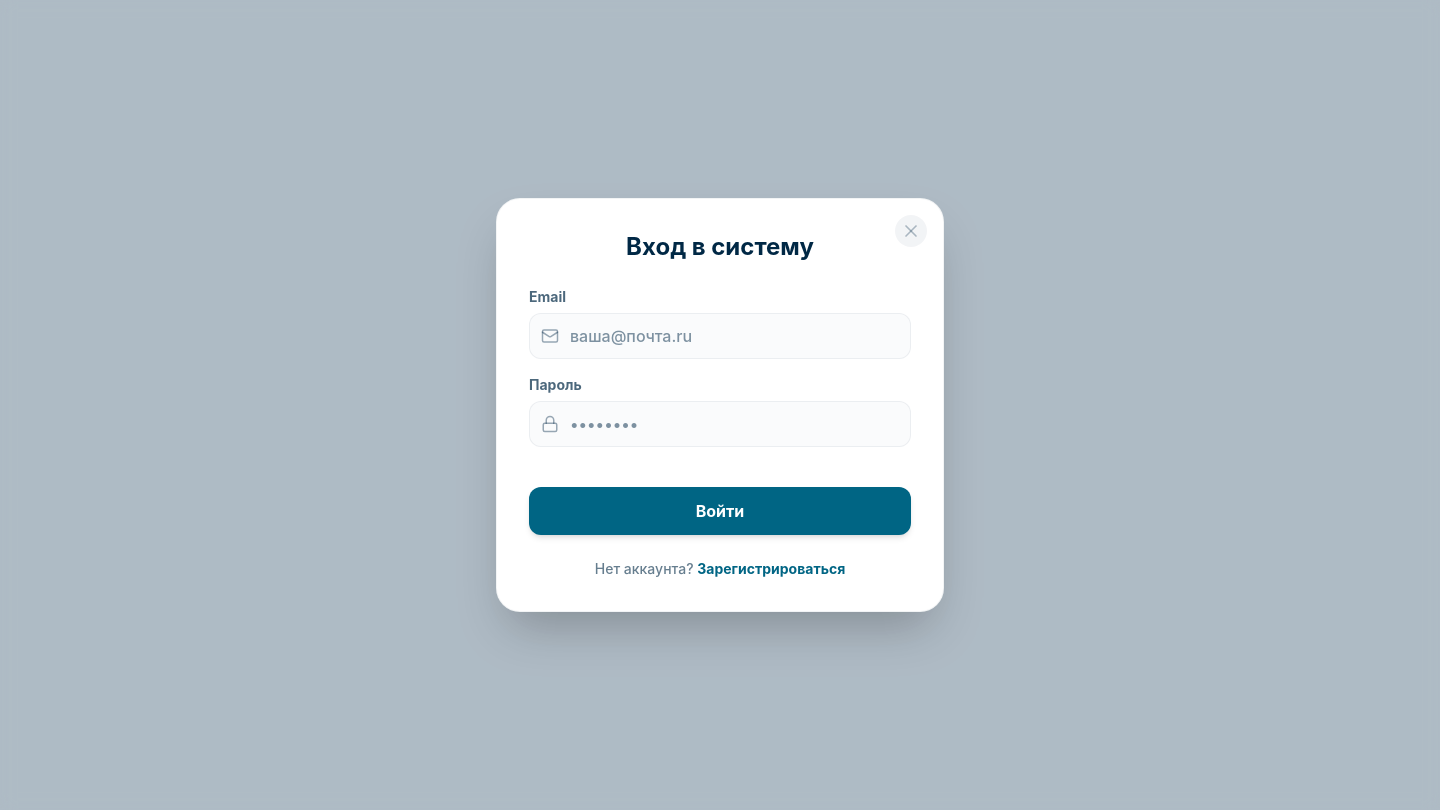
Test: AuthModal Registration Stress Tests › Test 8: Server returns unknown error — generic message shown
Click the button "Зарегистрироваться" at (771, 569), box left=697, top=559, right=845, bottom=579
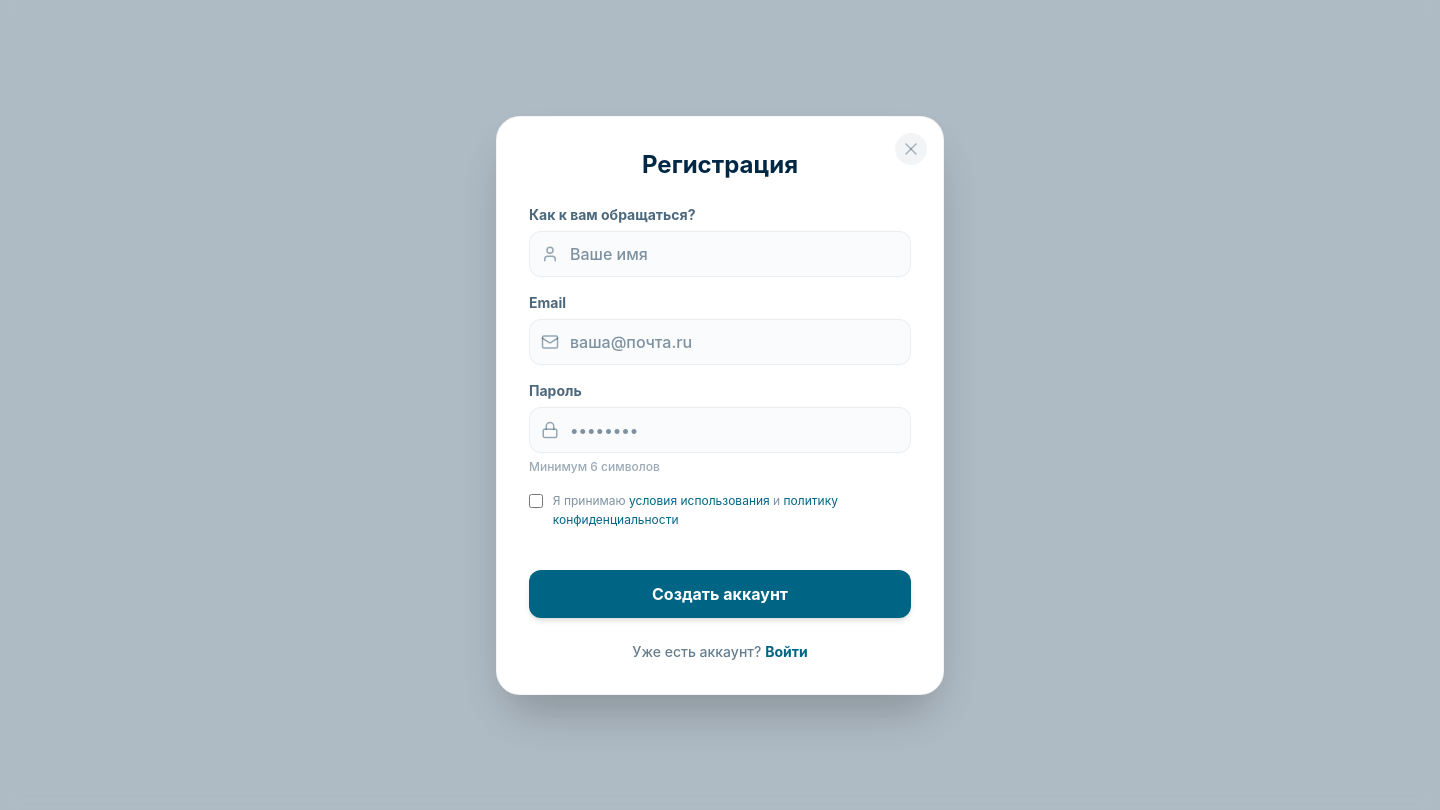
Type "Тест" into the field with placeholder "Ваше имя" at (720, 254), box left=529, top=230, right=911, bottom=276
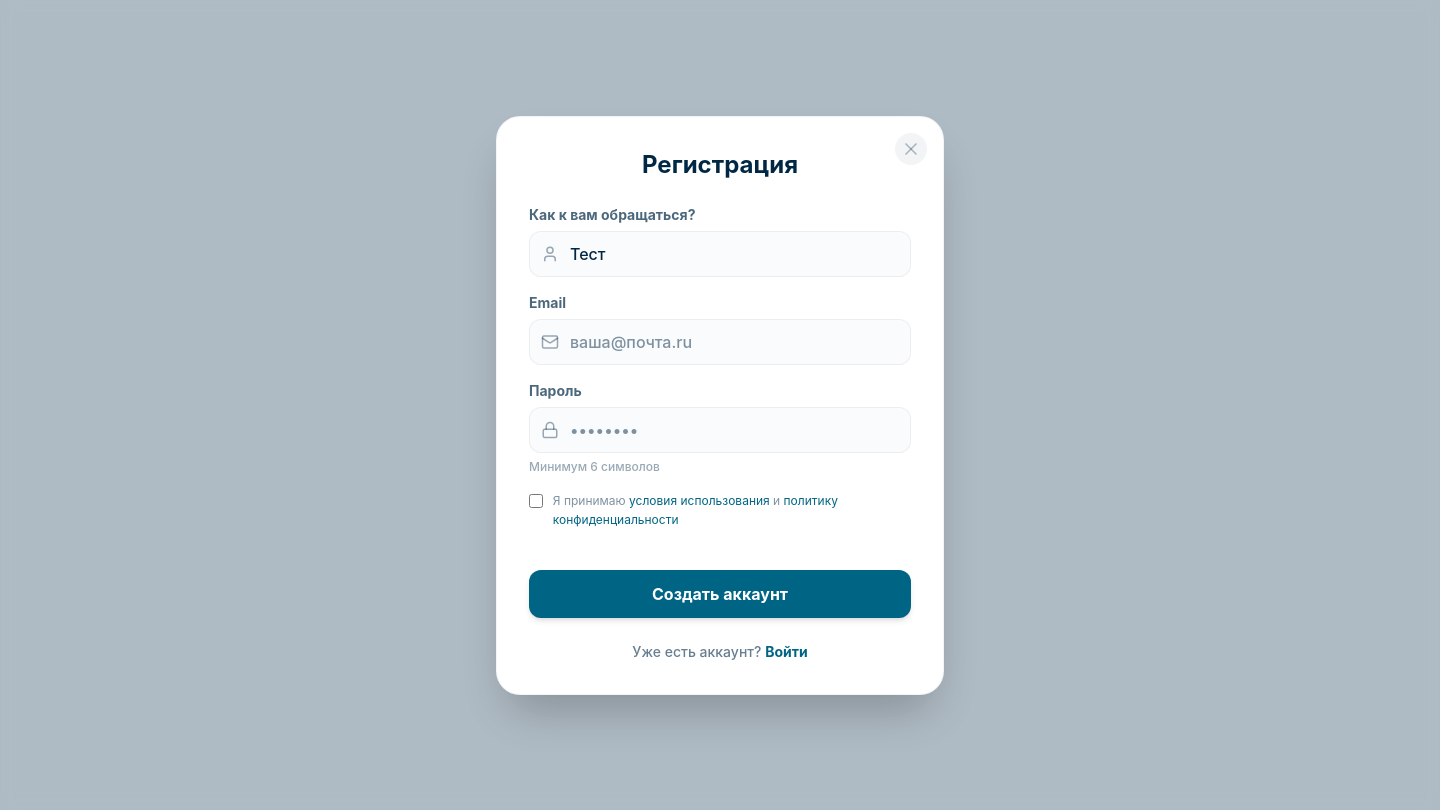
Type "test@test.com" into the field with placeholder "ваша@почта.ru" at (720, 342), box left=529, top=318, right=911, bottom=364
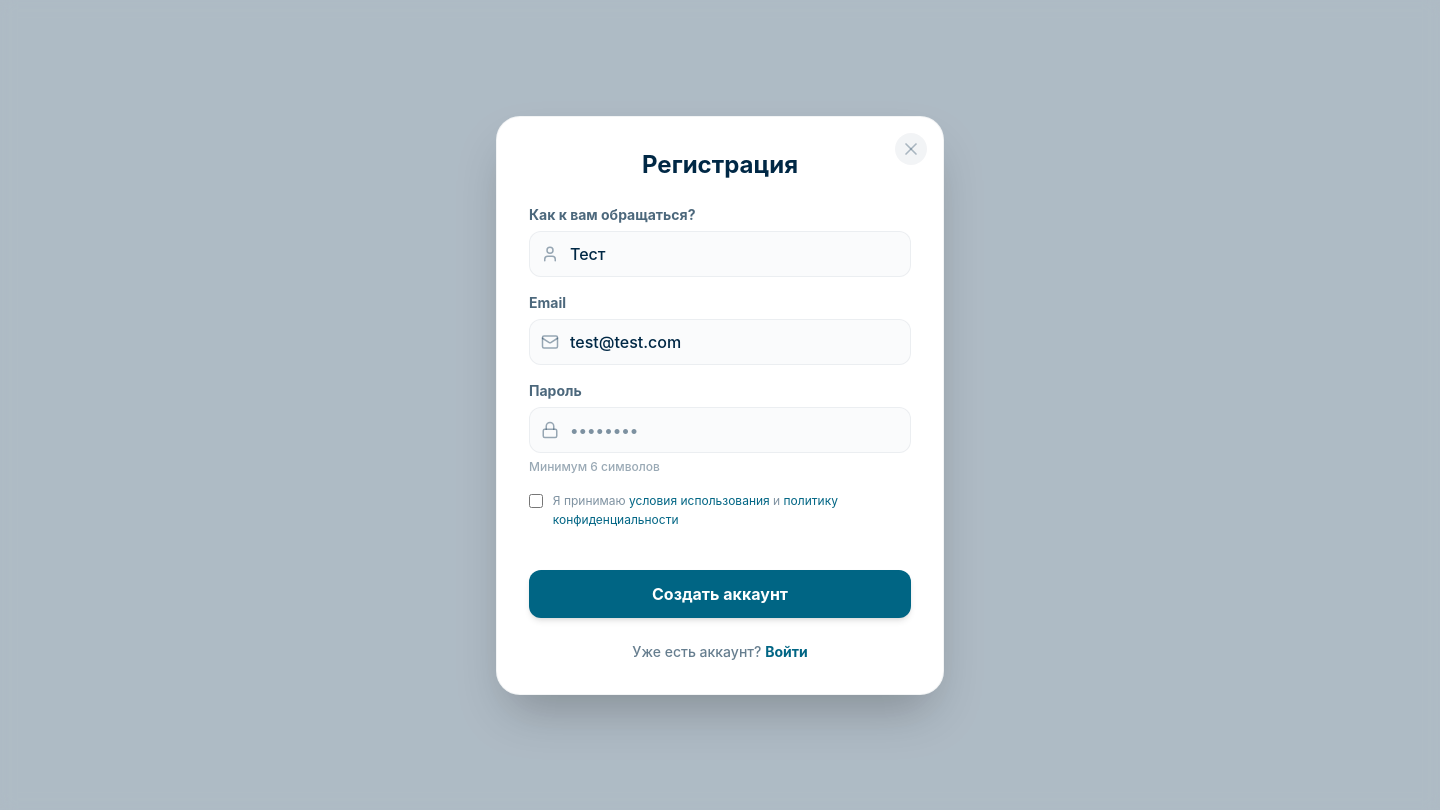
Type "password123" into the password field with placeholder "••••••••" at (720, 430), box left=529, top=406, right=911, bottom=452
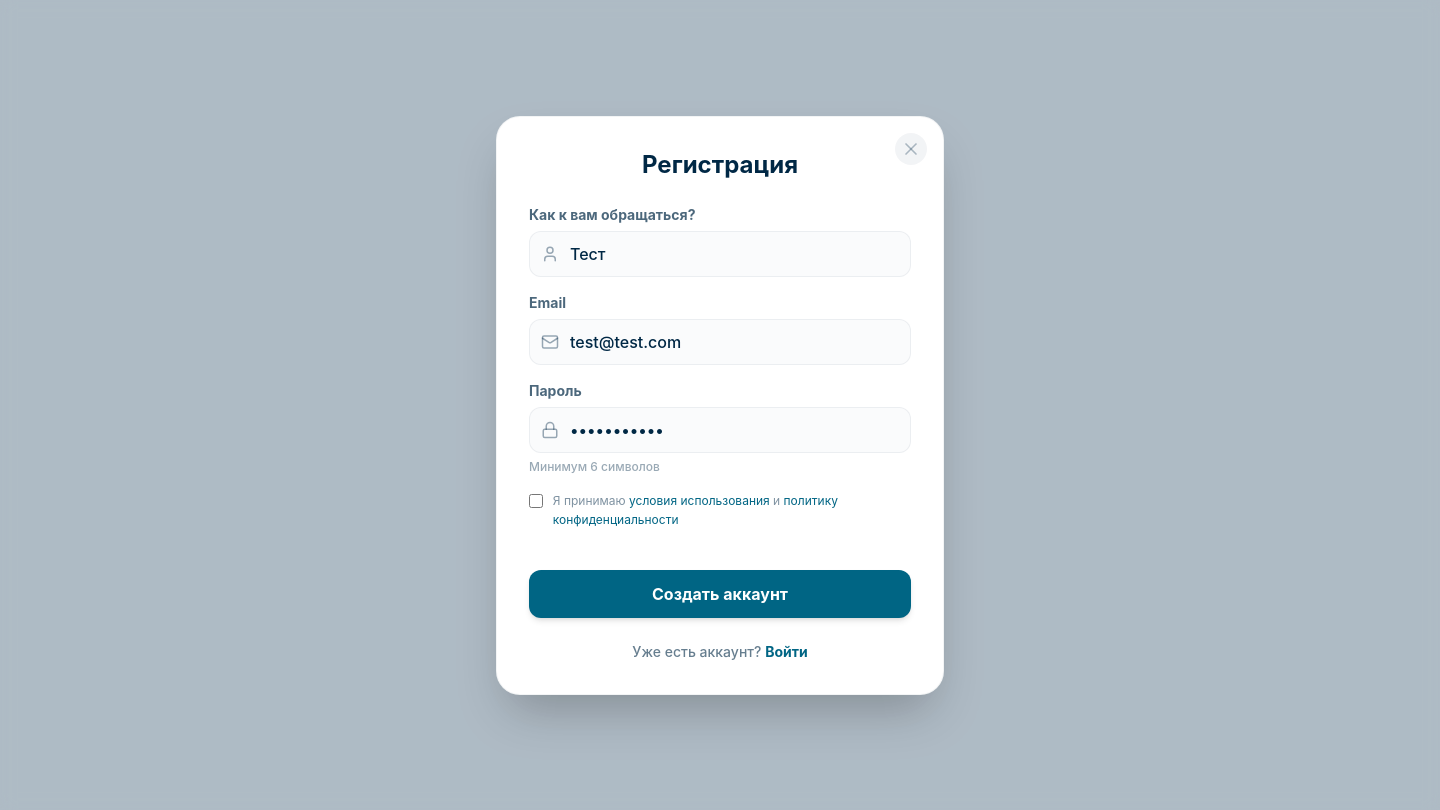
Click the checkbox at (536, 500), box left=529, top=492, right=543, bottom=508
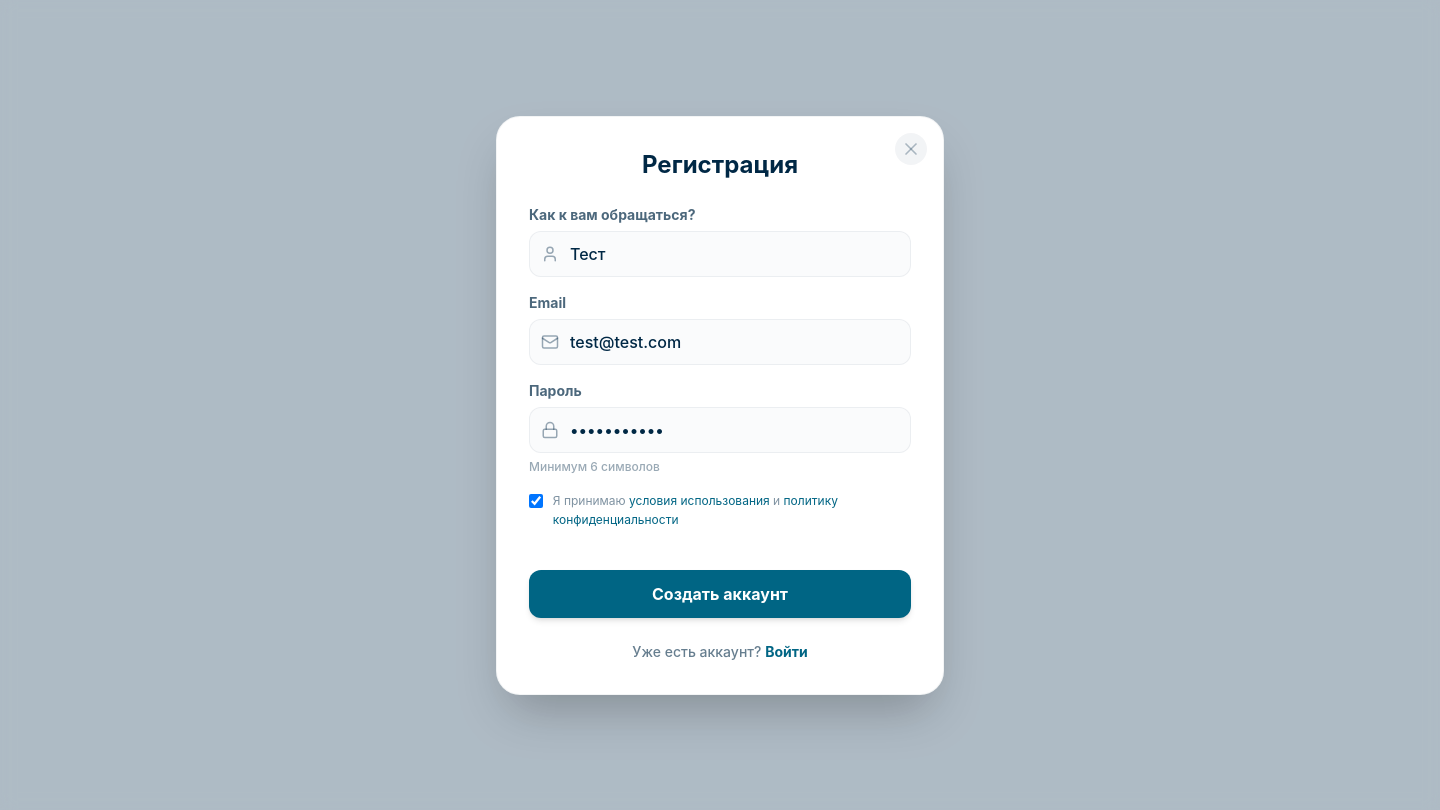
Click the button "Создать аккаунт" at (720, 594), box left=529, top=570, right=911, bottom=618
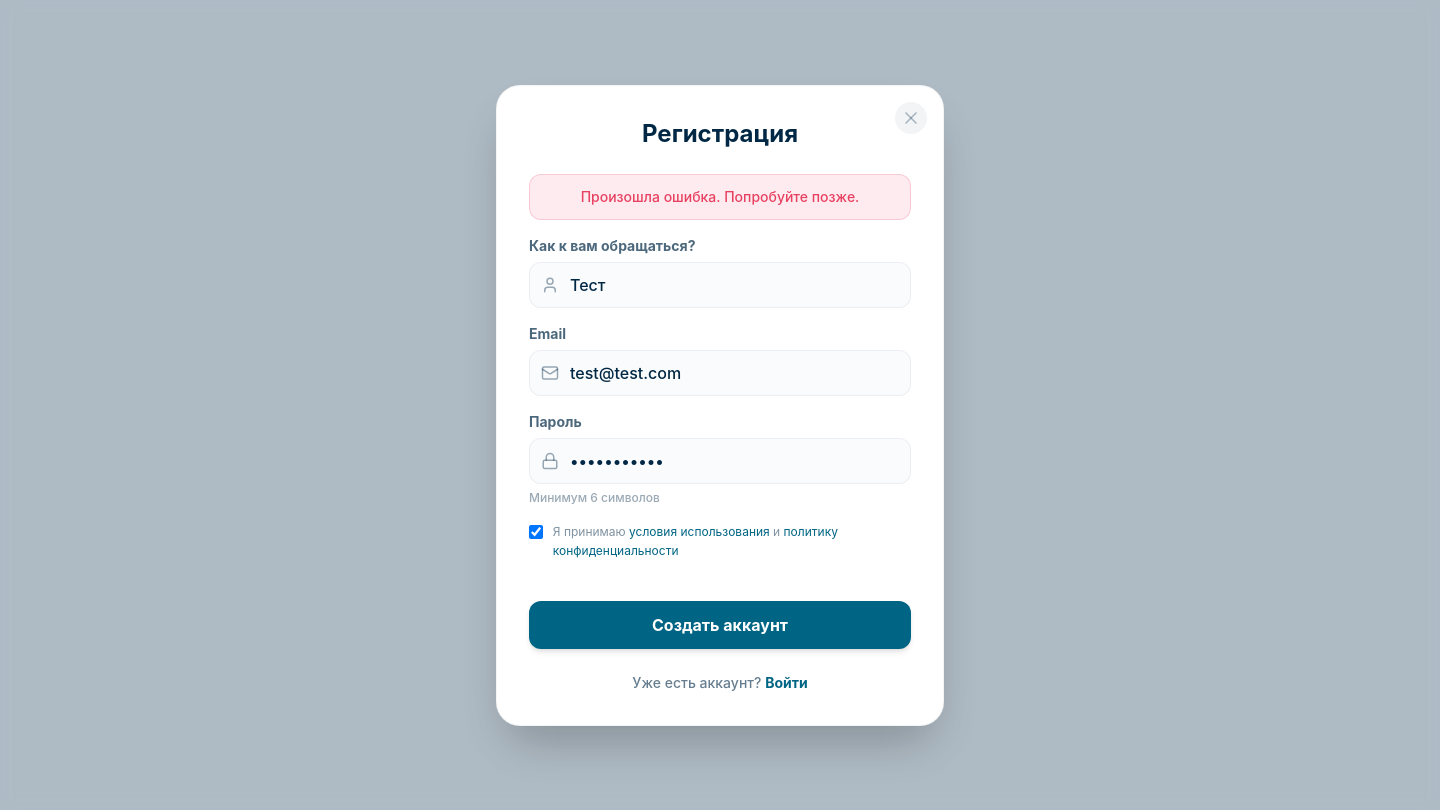
Expected: the text "Произошла ошибка. Попробуйте позже." is shown, left=529, top=174, right=911, bottom=220
